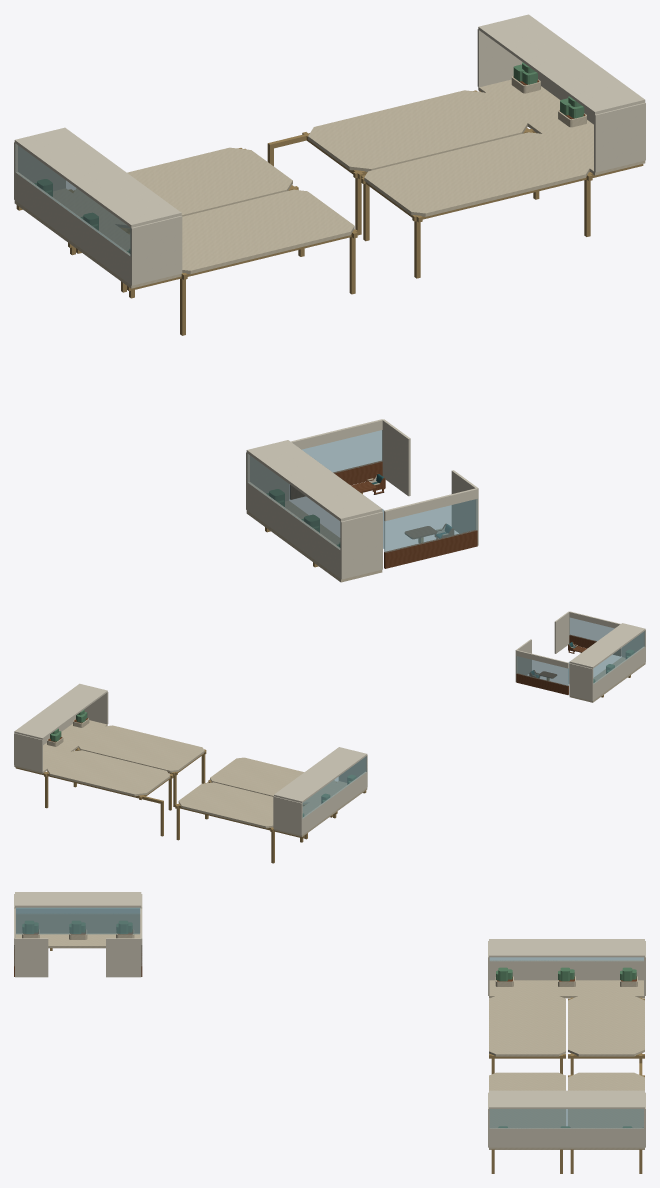
File: D04_PORT_FORWARD_HOMES_RECEIVING_r001.glb
The picture shows the model from 3 angles, top to bottom: view 1: azimuth 30°, elevation 25°; view 2: azimuth 150°, elevation 25°; view 3: azimuth 270°, elevation 25°; orthographic projection. The views are drawn at different scales.
Visible parts, largest first — view 1: D04H892_Floor, D04H916_Floor, D04H880_Floor, D04H904_Floor, D04HC_west_Roof, D04HC_east_Roof, D04HC_commons_Roof, D04HC_east_Floor, D04HC_west_PrivacyScreen, D04HC_west_GlassUpper, D04HC_west_End.001, D04HC_east_End.001 (+16 smaller); view 2: D04H916_Floor, D04H892_Floor, D04H904_Floor, D04H880_Floor, D04HC_west_Roof, D04HC_east_Roof, D04HC_commons_Roof, D04HC_east_Floor, D04HC_west_PrivacyScreen, D04HC_west_GlassUpper, D04HC_west_End, D04Commons_NorthGlass (+10 smaller); view 3: D04H880_Floor, D04H904_Floor, D04Commons_GardenGlass, D04HC_east_PrivacyScreen, D04HC_east_GlassUpper, D04HC_west_Roof, D04HC_east_Roof, D04H892_Floor, D04H916_Floor, D04HC_west_PrivacyScreen, D04HC_west_Floor, D04HC_commons_Roof (+7 smaller).
Boxes of the visible parts, box(x1,y1,x2,y2) form: D04H892_Floor: box(364, 132, 589, 216); D04H916_Floor: box(308, 90, 527, 171); D04H880_Floor: box(182, 189, 354, 274); D04H904_Floor: box(73, 147, 292, 228); D04HC_west_Roof: box(14, 127, 181, 227); D04HC_east_Roof: box(478, 14, 645, 114); D04HC_commons_Roof: box(246, 440, 382, 521); D04HC_east_Floor: box(478, 79, 645, 175); D04HC_west_PrivacyScreen: box(14, 172, 131, 284); D04HC_west_GlassUpper: box(15, 143, 130, 256); D04HC_west_End.001: box(130, 216, 182, 285); D04HC_east_End.001: box(594, 102, 645, 172); D04H916_Floor: box(47, 750, 169, 796); D04H892_Floor: box(78, 725, 204, 772); D04H904_Floor: box(178, 782, 273, 828); D04H880_Floor: box(210, 757, 335, 804); D04HC_west_Roof: box(274, 747, 367, 802); D04HC_east_Roof: box(14, 683, 107, 739); D04HC_commons_Roof: box(569, 623, 645, 668); D04HC_east_Floor: box(14, 720, 107, 773); D04HC_west_PrivacyScreen: box(302, 772, 367, 834); D04HC_west_GlassUpper: box(302, 756, 366, 818); D04HC_west_End: box(273, 796, 302, 835); D04Commons_NorthGlass: box(516, 656, 568, 685); D04H880_Floor: box(489, 996, 565, 1056); D04H904_Floor: box(568, 996, 644, 1056); D04Commons_GardenGlass: box(16, 907, 139, 934); D04HC_east_PrivacyScreen: box(489, 1128, 644, 1147); D04HC_east_GlassUpper: box(489, 1109, 643, 1128); D04HC_west_Roof: box(489, 939, 644, 957); D04HC_east_Roof: box(489, 1090, 644, 1108); D04H892_Floor: box(489, 1072, 565, 1127); D04H916_Floor: box(568, 1072, 644, 1127); D04HC_west_PrivacyScreen: box(489, 960, 643, 980); D04HC_west_Floor: box(489, 980, 644, 998); D04HC_commons_Roof: box(15, 892, 141, 907).
Size of the model in its own units: 47.6 by 8.66 by 59.08.
Materials: 18 (16 with a texture image).
